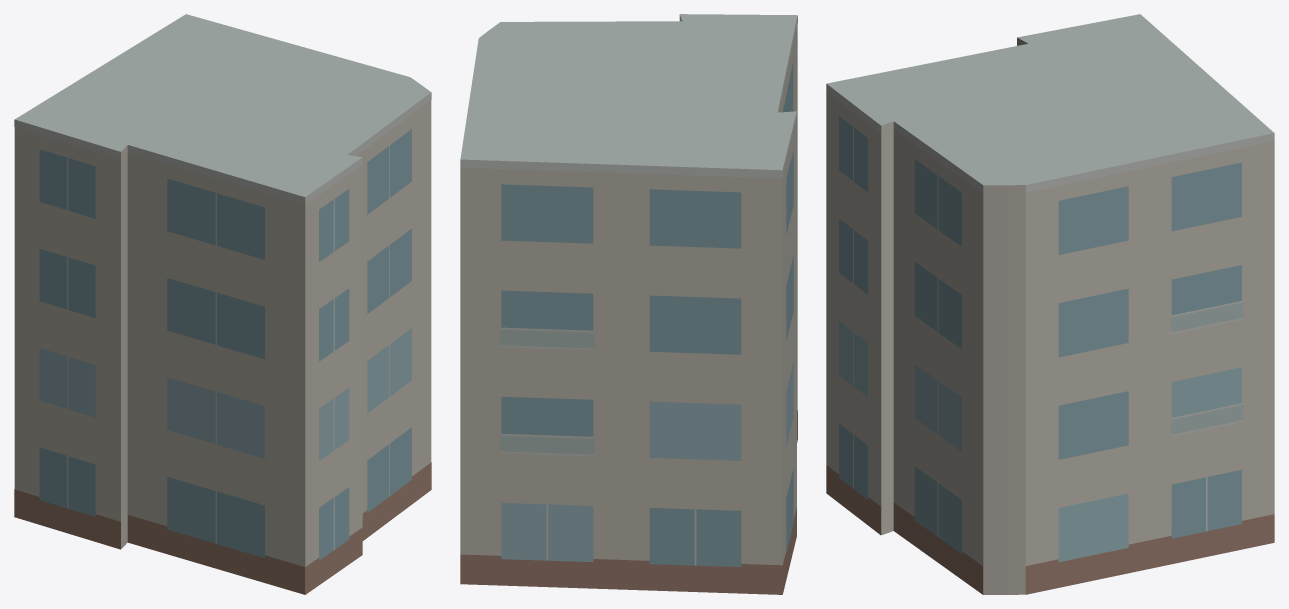
File: survey-upis-32995782.glb
The picture shows the model from 3 angles, left to right: view 1: azimuth 30°, elevation 25°; view 2: azimuth 150°, elevation 25°; view 3: azimuth 270°, elevation 25°; orthographic projection. The views are drawn at different scales.
Visible parts, largest first — view 1: survey-upis-32995782.tmp; view 2: survey-upis-32995782.tmp; view 3: survey-upis-32995782.tmp.
Part boxes in pixels (x1,y1,x2,y2): survey-upis-32995782.tmp: (14,14,431,594); survey-upis-32995782.tmp: (460,14,797,594); survey-upis-32995782.tmp: (826,14,1274,594).
Bounding box in the file's own units: 11.3 × 12.6 × 12.5.
